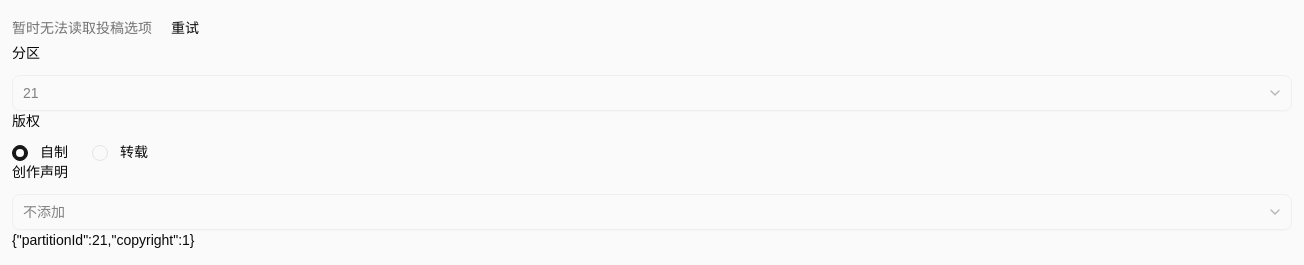
Scenario: failed account options offer retry without silently fabricating choices
expect the text "暂时无法读取投稿选项" is shown: met, box [12,18,152,38]
Click the button "重试" at [185, 28], box [160,12,210,44]
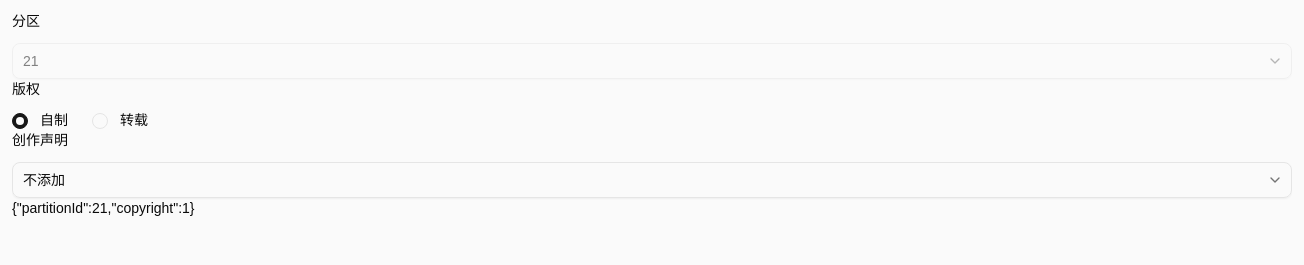
expect the text "暂时无法读取投稿选项" is gone: met
